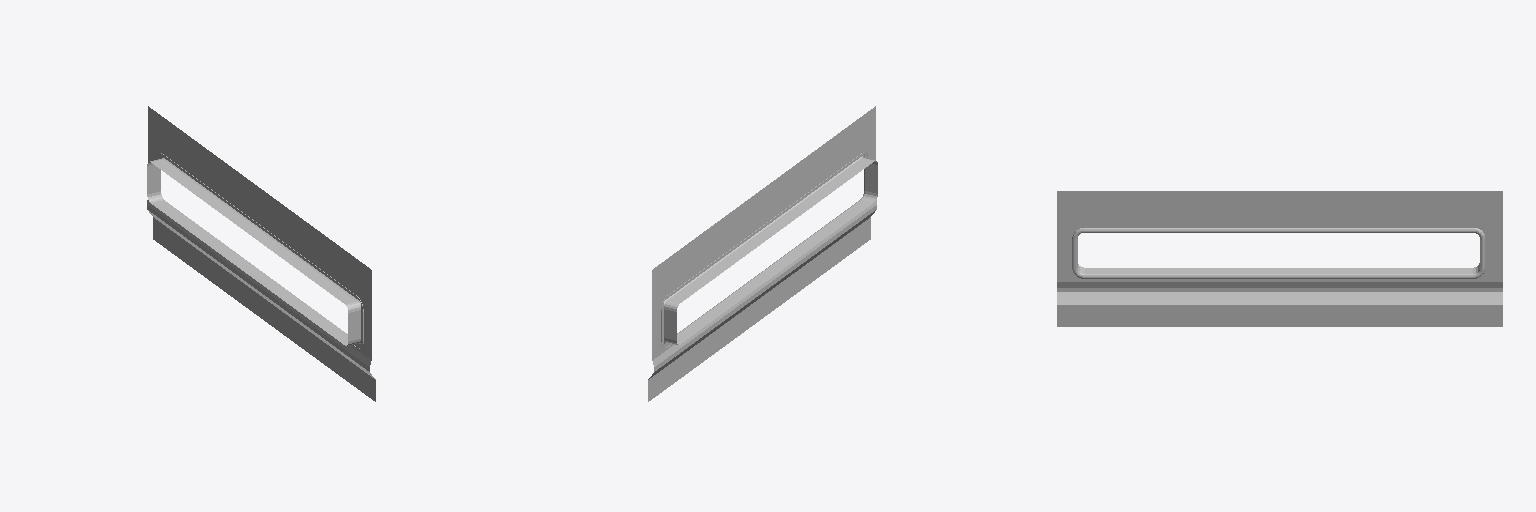
The model's file is SciFi_Wall_window.obj.
The picture shows the model from 3 angles: view 1: azimuth 30°, elevation 25°; view 2: azimuth 150°, elevation 25°; view 3: azimuth 270°, elevation 25°; orthographic projection.
Parts seen in each view (by area): view 1: SciFi_Wall; view 2: SciFi_Wall; view 3: SciFi_Wall.
Part boxes in pixels (left/top/right/bottom): SciFi_Wall: left=147, top=106, right=375, bottom=401; SciFi_Wall: left=648, top=106, right=877, bottom=401; SciFi_Wall: left=1057, top=191, right=1502, bottom=326.
Size of the model in its own units: 0.3569 by 2.62 by 7.89.